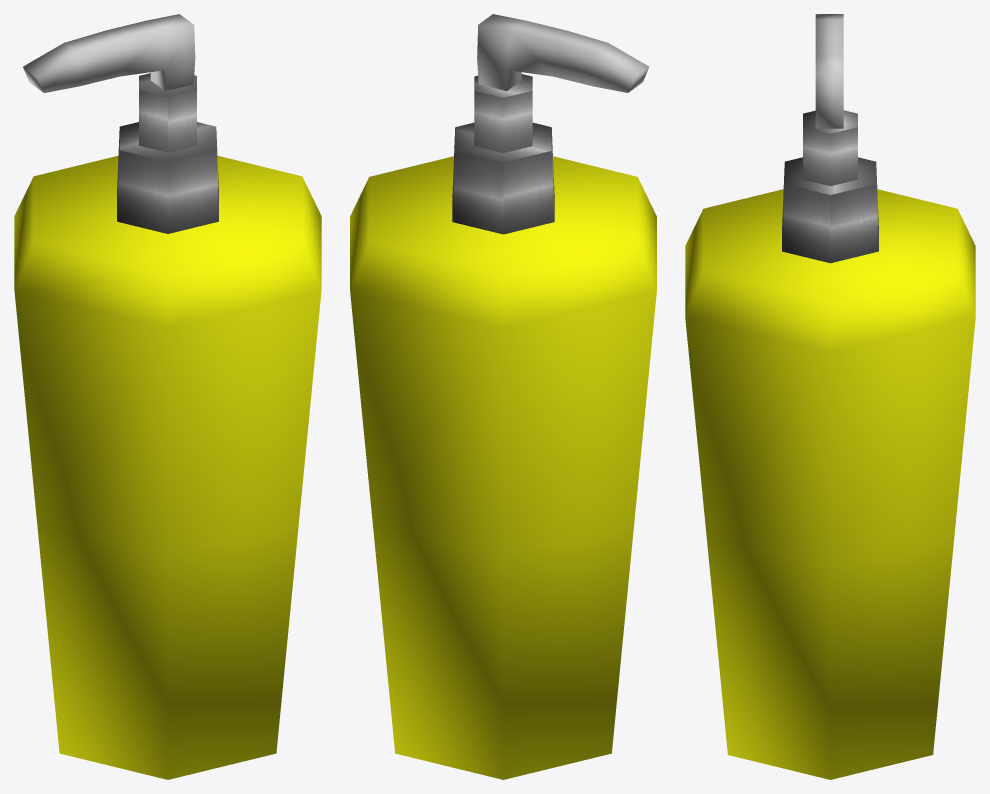
Rendered from Soap_Dispenser_J.FBX.
The picture shows the model from 3 angles, left to right: view 1: azimuth 30°, elevation 25°; view 2: azimuth 150°, elevation 25°; view 3: azimuth 270°, elevation 25°; orthographic projection. The views are drawn at different scales.
Parts seen in each view (by area): view 1: Soap_Dispenser; view 2: Soap_Dispenser; view 3: Soap_Dispenser.
Boxes of the visible parts, <box> form: Soap_Dispenser: <box>14,14,321,779</box>; Soap_Dispenser: <box>350,14,656,779</box>; Soap_Dispenser: <box>685,14,975,779</box>.
Bounding box in the file's own units: 18.48 × 40.55 × 16.01.
